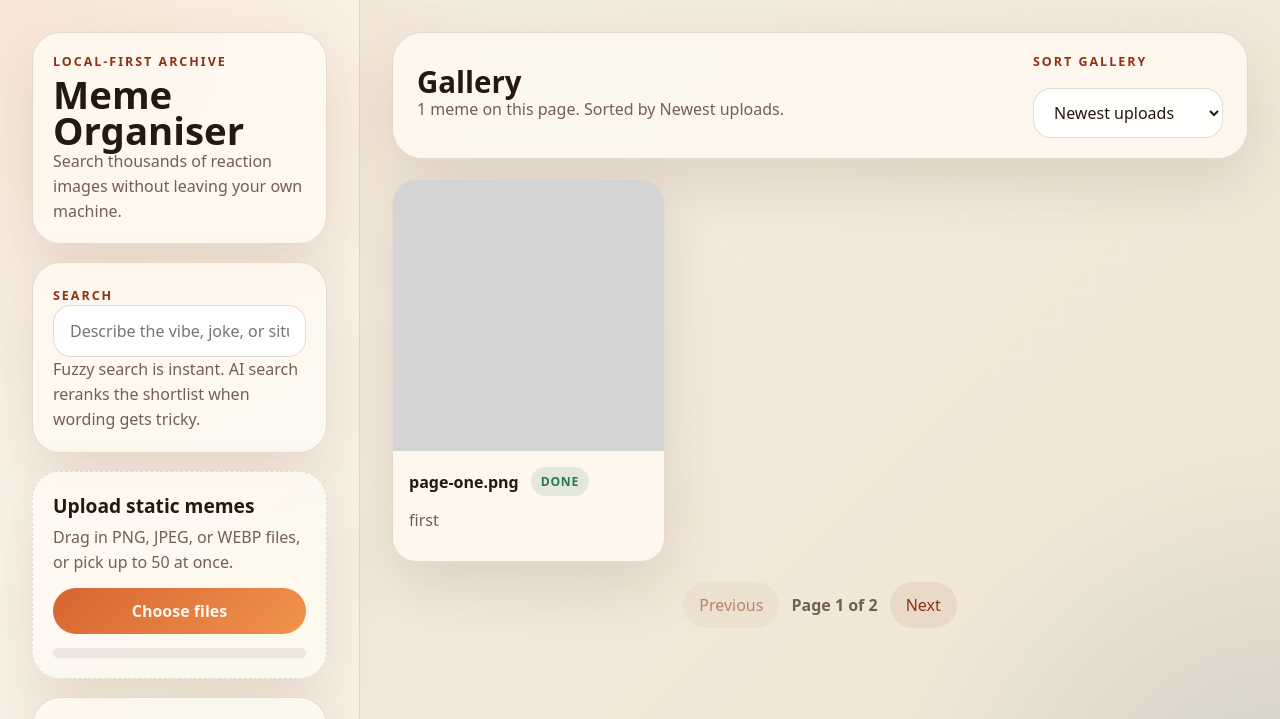
Scenario: App › changes gallery sorting and resets pagination back to page one
Expected: the text "page-one.png" is shown, x1=409 y1=471 x2=519 y2=493
Click the button "Next" at [923, 605], box x1=890 y1=582 x2=957 y2=628
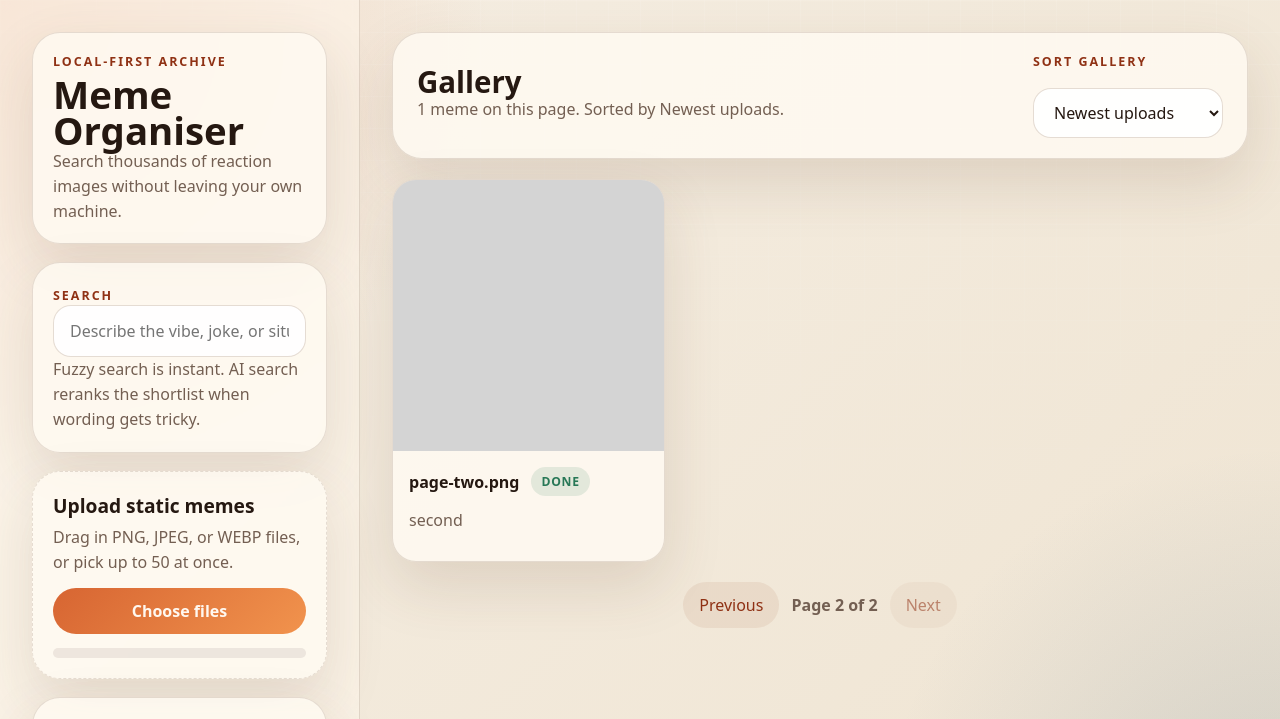
Result: the text "page-two.png" is shown at x1=409 y1=471 x2=519 y2=493
Select "Filename" in the dropdown labelled "Sort gallery" at [1128, 113], box x1=1033 y1=88 x2=1223 y2=138
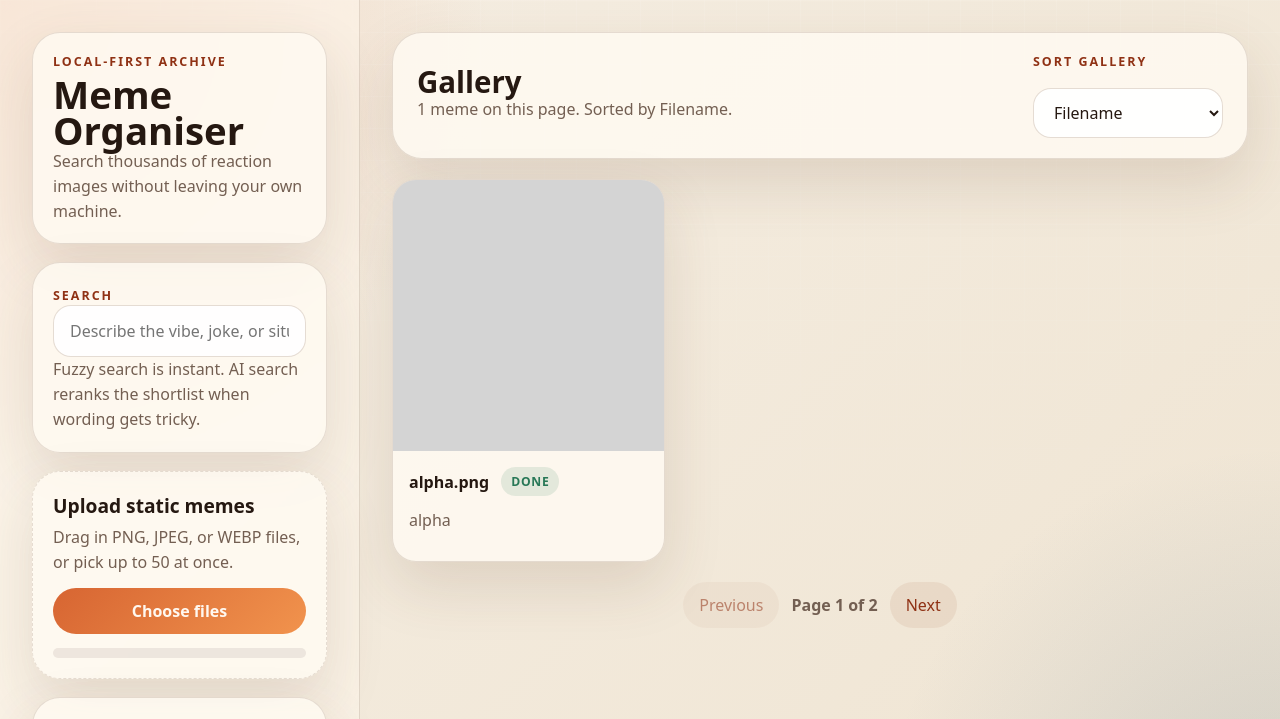
Result: the text "alpha.png" is shown at x1=409 y1=471 x2=489 y2=493
Result: the text "Page 1 of 2" is shown at x1=791 y1=594 x2=878 y2=616
